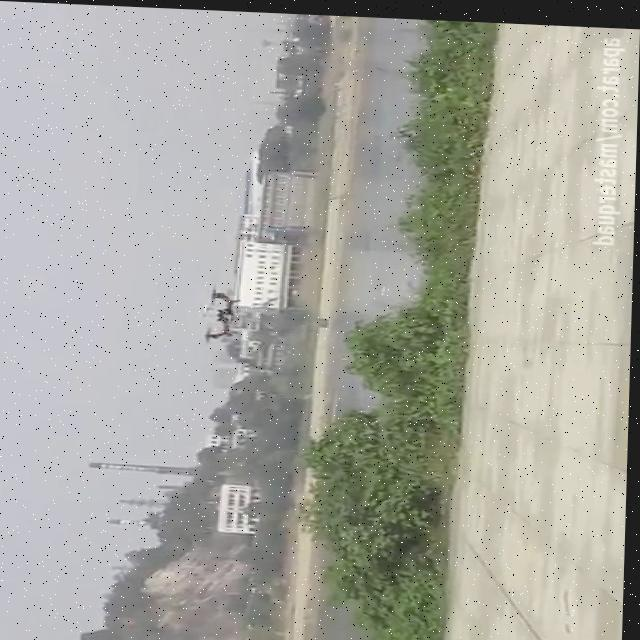drone: (192, 279, 246, 344)
